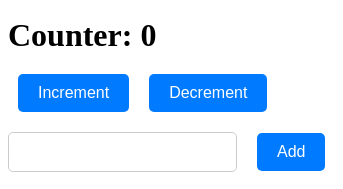
Test: Counter › should increase count by input value
The image size is (343, 189).
Type "123" into the number field. click: (122, 152)
box: [8,132,237,172]
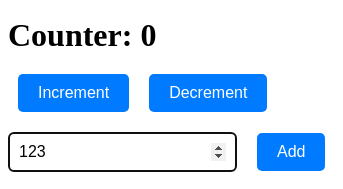
Click the button "Add". click: (291, 152)
box: [257,132,326,170]
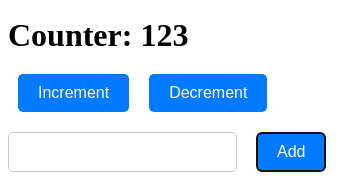
Now the heading reads "Counter: 123", box [8,16,188,52]
